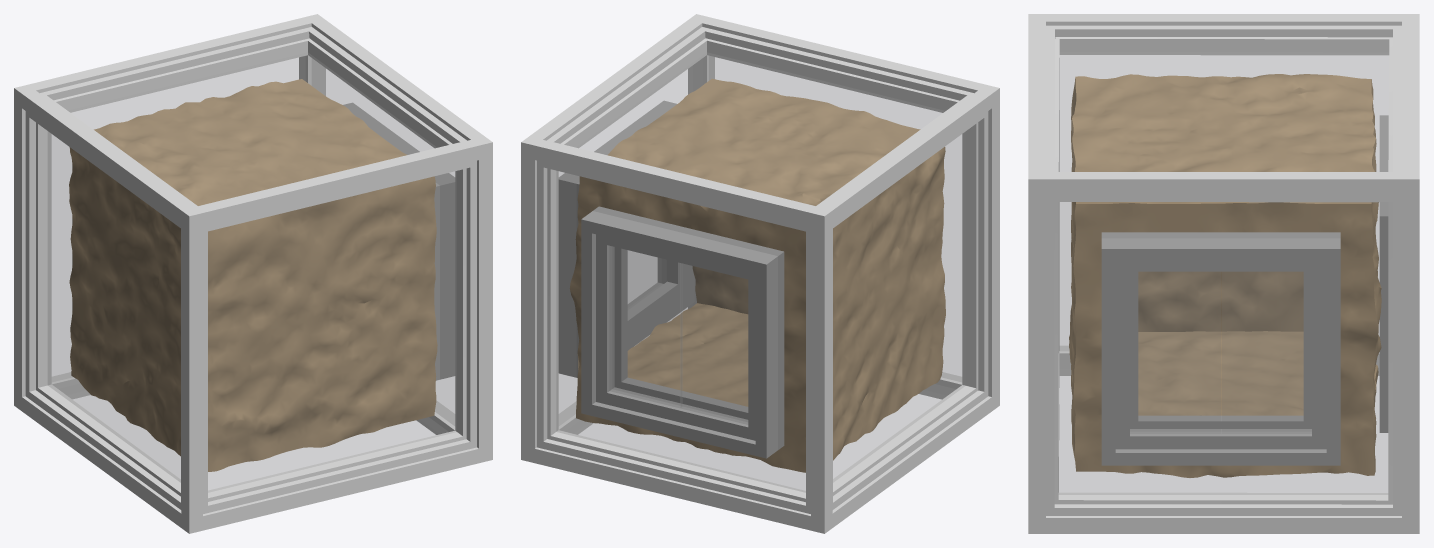
The model's file is Converyor_Belt_Turn.fbx.
The picture shows the model from 3 angles, left to right: view 1: azimuth 30°, elevation 25°; view 2: azimuth 150°, elevation 25°; view 3: azimuth 270°, elevation 25°; orthographic projection. The views are drawn at different scales.
Visible parts, largest first — view 1: pCube12, pCube10, pCube9, pCube16; view 2: pCube12, pCube9, pCube10, pCube13, pCube14, pCube15, pCube16, pCube17; view 3: pCube10, pCube12, pCube9, pCube16, pCube17, pCube18, pCube13.
Boxes of the visible parts, x1,y1,x2,y2 form: pCube12: [48, 53, 456, 492]; pCube10: [69, 79, 437, 471]; pCube9: [14, 14, 492, 533]; pCube16: [343, 102, 455, 380]; pCube12: [557, 53, 965, 492]; pCube9: [521, 14, 999, 533]; pCube10: [569, 78, 945, 472]; pCube13: [581, 206, 784, 458]; pCube14: [610, 246, 682, 407]; pCube15: [680, 263, 747, 424]; pCube16: [558, 100, 694, 377]; pCube17: [628, 250, 661, 307]; pCube10: [1069, 74, 1381, 477]; pCube12: [1059, 52, 1388, 494]; pCube9: [1028, 14, 1419, 533]; pCube16: [1101, 232, 1340, 465]; pCube17: [1130, 271, 1220, 433]; pCube18: [1221, 271, 1311, 433]; pCube13: [1379, 115, 1388, 432].
Bounding box in the file's own units: 4.4 × 4.4 × 4.4.
